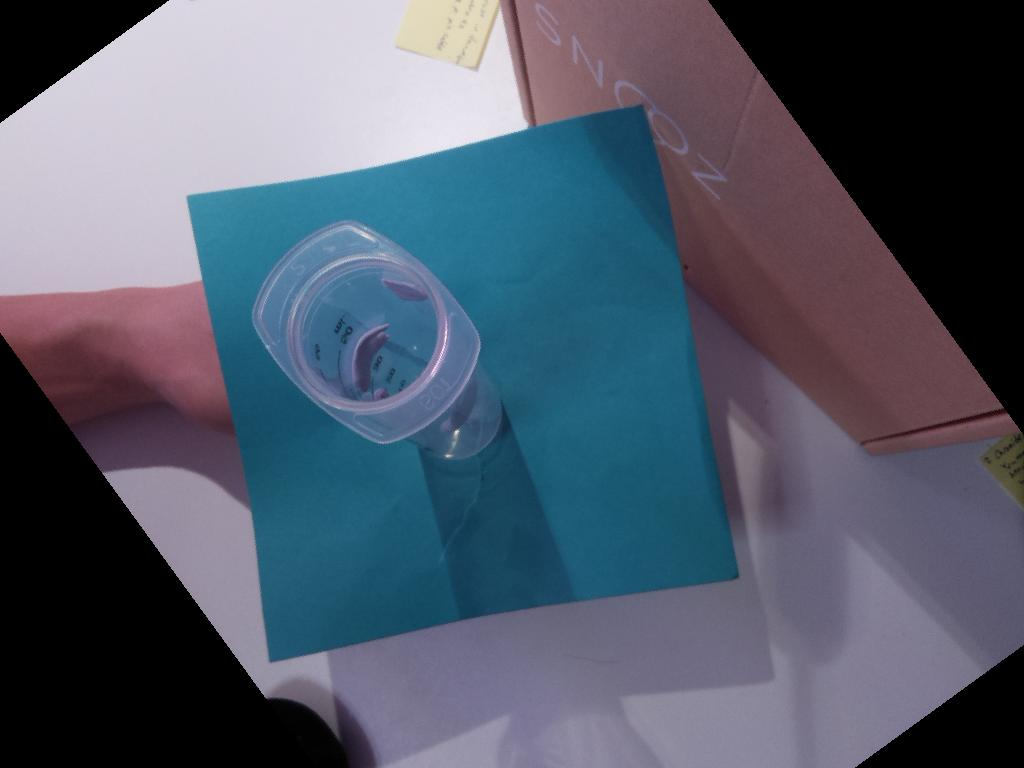dirty: (252, 219, 481, 444)
